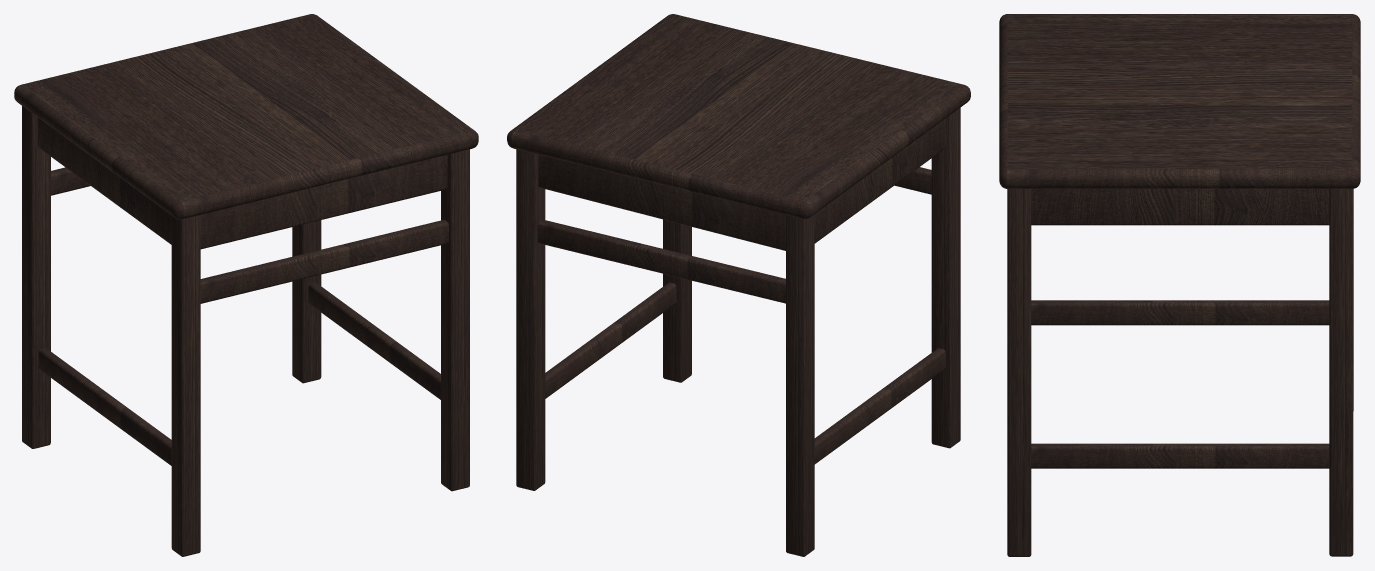
The model's file is стул.fbx.
3 renders of one model, left to right at view 1: azimuth 30°, elevation 25°; view 2: azimuth 150°, elevation 25°; view 3: azimuth 270°, elevation 25°, orthographic. The views are drawn at different scales.
Visible parts, largest first — view 1: сидутшка, ножка_перед, ножка_перед_2_2, ножка_перед_1, бошка_1, бошка_4, бошка_3, ножка_перед_2, бошка_5, бошка_6, бошка_7; view 2: сидутшка, ножка_перед_1, ножка_перед_2, ножка_перед, бошка, бошка_7, бошка_3, ножка_перед_2_2, бошка_6, бошка_5, бошка_4; view 3: сидутшка, бошка_2, ножка_перед_2_2, ножка_перед_2, бошка_6, бошка_5.
Boxes of the visible parts, x1=… form: сидутшка: x1=14, y1=14, x2=478, y2=219; ножка_перед: x1=171, y1=215, x2=200, y2=556; ножка_перед_2_2: x1=441, y1=149, x2=469, y2=491; ножка_перед_1: x1=22, y1=106, x2=50, y2=448; бошка_1: x1=200, y1=155, x2=447, y2=249; бошка_4: x1=200, y1=219, x2=448, y2=303; бошка_3: x1=37, y1=117, x2=171, y2=244; ножка_перед_2: x1=292, y1=220, x2=321, y2=383; бошка_5: x1=38, y1=348, x2=171, y2=465; бошка_6: x1=308, y1=282, x2=440, y2=399; бошка_7: x1=51, y1=167, x2=90, y2=195; сидутшка: x1=507, y1=14, x2=970, y2=219; ножка_перед_1: x1=786, y1=214, x2=814, y2=556; ножка_перед_2: x1=516, y1=149, x2=545, y2=490; ножка_перед: x1=931, y1=107, x2=960, y2=448; бошка: x1=538, y1=154, x2=785, y2=250; бошка_7: x1=537, y1=219, x2=785, y2=303; бошка_3: x1=814, y1=118, x2=946, y2=243; ножка_перед_2_2: x1=663, y1=219, x2=691, y2=382; бошка_6: x1=545, y1=282, x2=676, y2=398; бошка_5: x1=814, y1=348, x2=945, y2=464; бошка_4: x1=894, y1=167, x2=931, y2=194; сидутшка: x1=999, y1=14, x2=1360, y2=188; бошка_2: x1=1031, y1=189, x2=1329, y2=225; ножка_перед_2_2: x1=1007, y1=189, x2=1031, y2=556; ножка_перед_2: x1=1329, y1=189, x2=1353, y2=556; бошка_6: x1=1031, y1=443, x2=1329, y2=468; бошка_5: x1=1031, y1=300, x2=1329, y2=325.
Bounding box in the file's own units: 232 × 260 × 219.
Materials: 1 (1 with a texture image).
